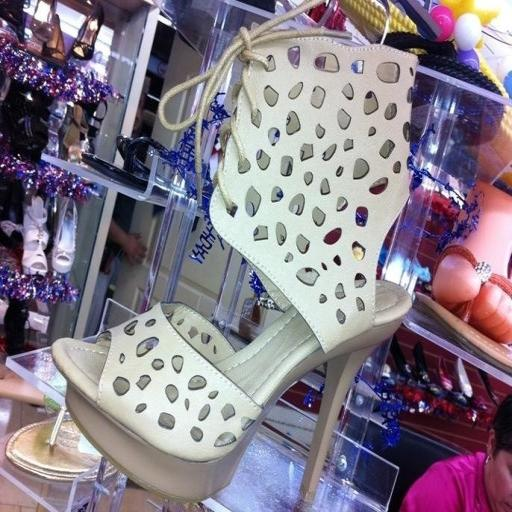heels: (52, 2, 416, 501), (22, 196, 49, 275), (52, 198, 78, 274), (71, 1, 104, 60), (41, 14, 66, 67), (30, 0, 57, 43), (0, 0, 25, 43)
